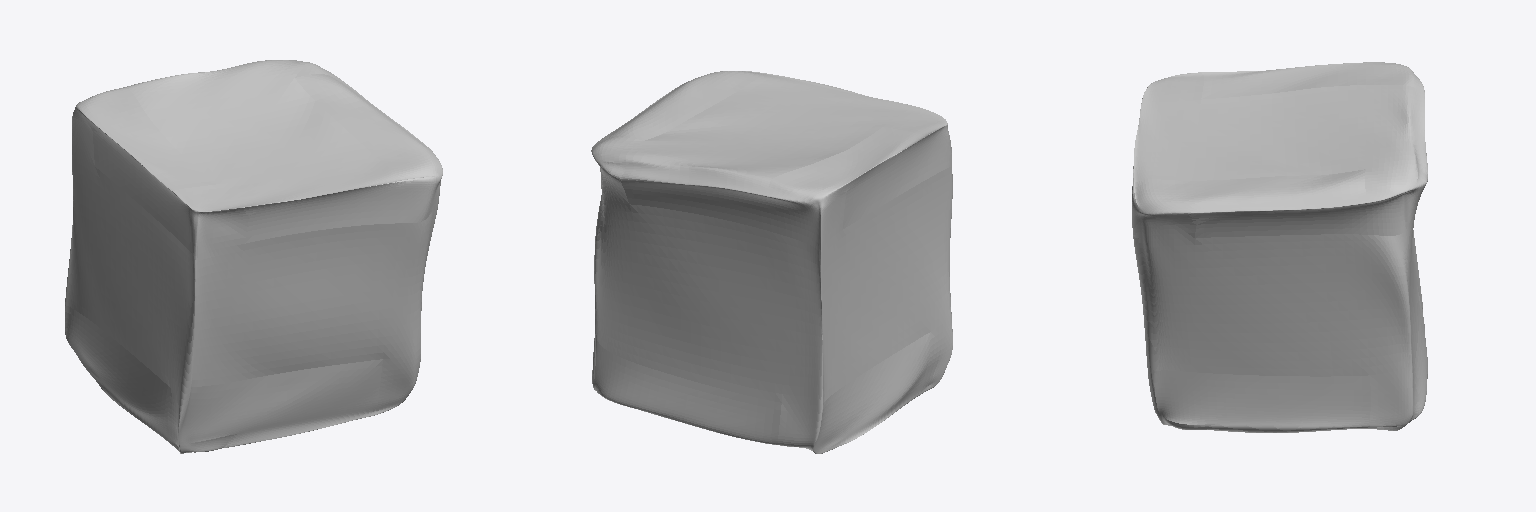
Rendered from kiwi_mesh_raw.obj.
3 views of the same model, side by side, from view 1: azimuth 30°, elevation 25°; view 2: azimuth 150°, elevation 25°; view 3: azimuth 270°, elevation 25° (orthographic).
Visible parts, largest first — view 1: obj_750; view 2: obj_750; view 3: obj_750.
Boxes of the visible parts, box(x1,y1,x2,y2) form: obj_750: box(65, 60, 442, 453); obj_750: box(591, 71, 952, 453); obj_750: box(1132, 62, 1427, 432).
Size of the model in its own units: 3.2 by 3.23 by 3.13.